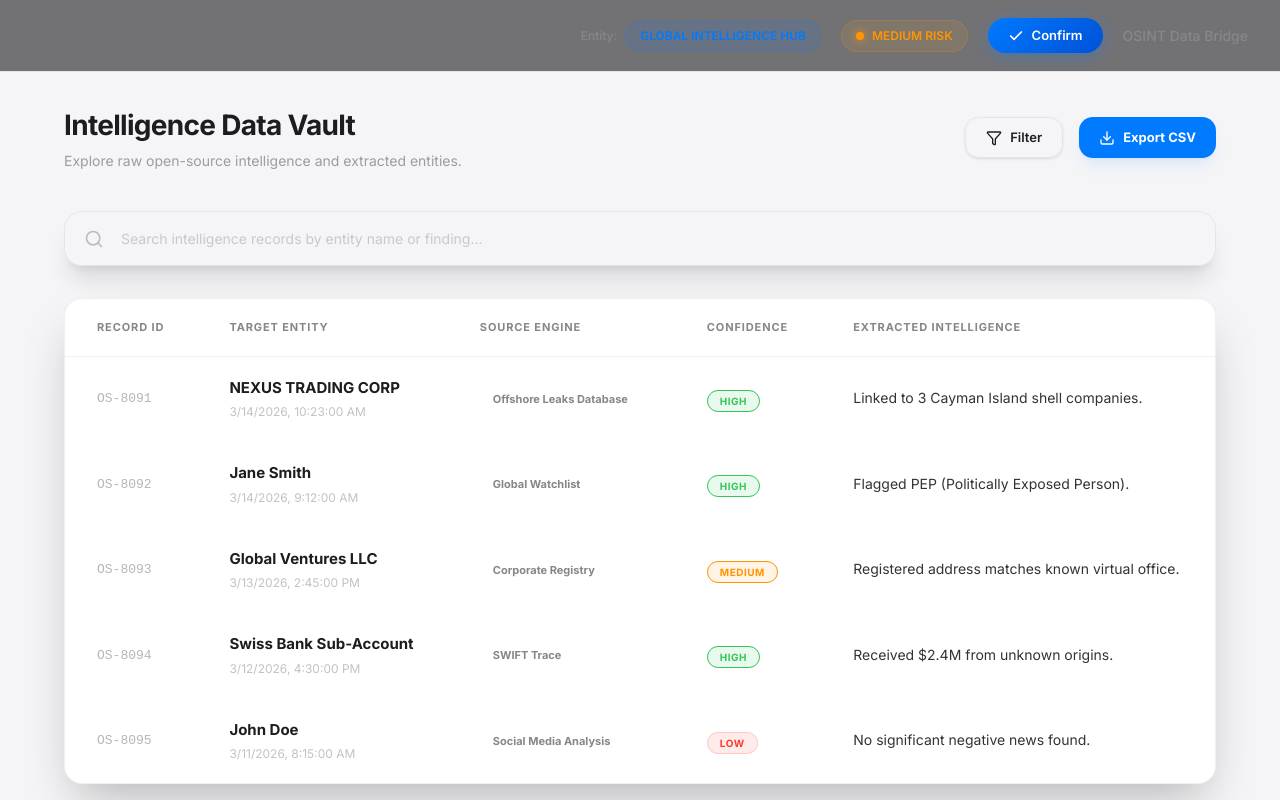
OsintView mock-data search › filters records in real time while typing in search input
In the field with test id "osint-search-input": (640, 238) [64,211,1216,266], type "nexus"
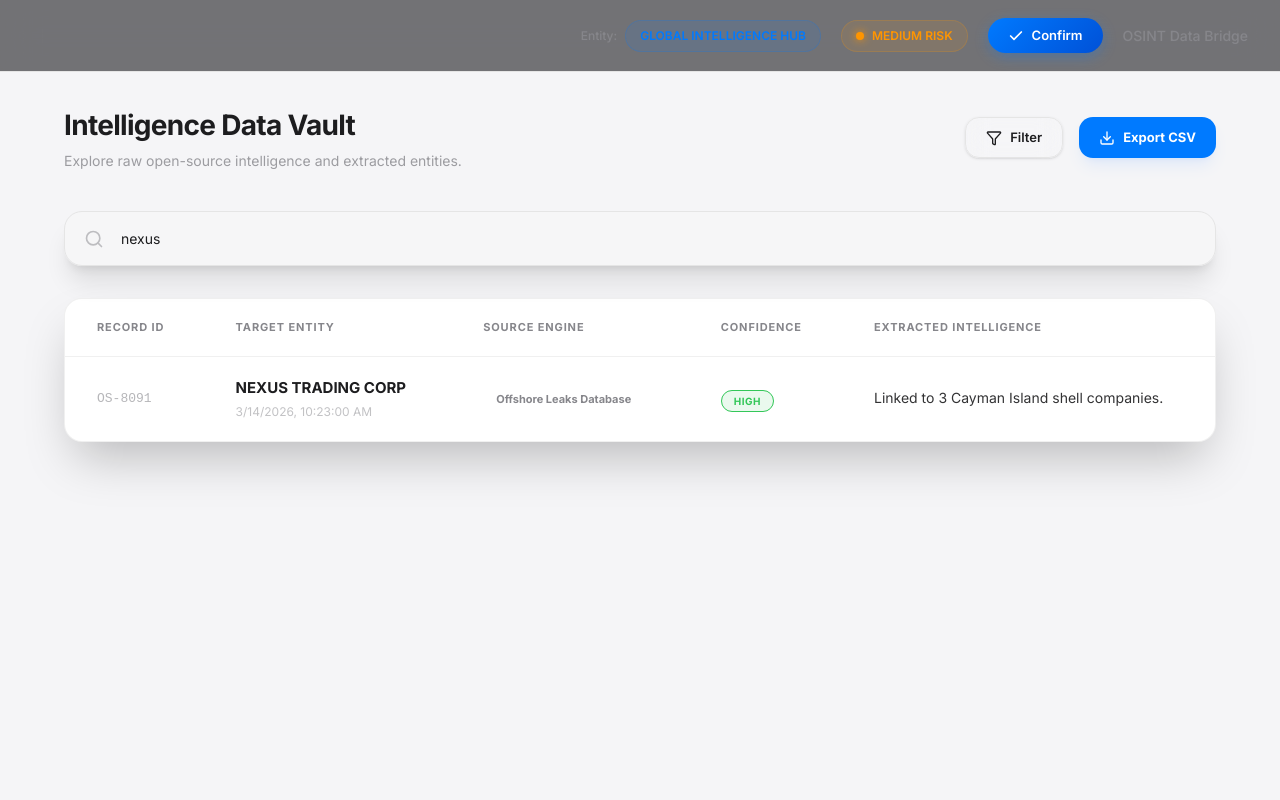
expect the text "NEXUS TRADING CORP" is shown: met, box [236,376,419,399]
expect the text "Jane Smith" is gone: met
